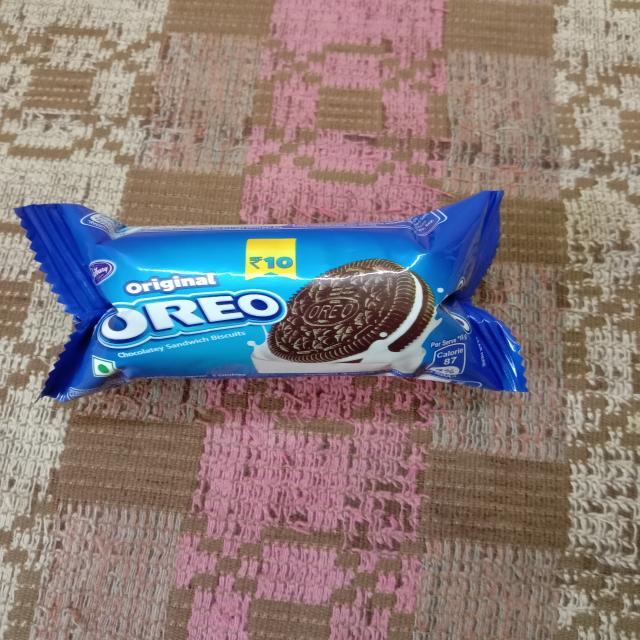oreo biscuit: (11, 190, 560, 413)
